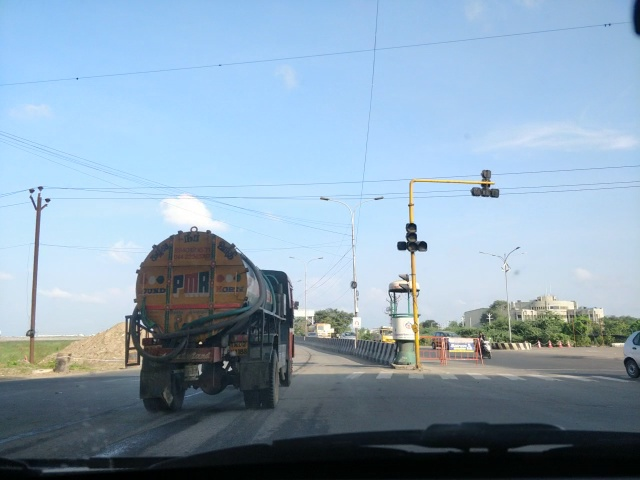car: (624, 328, 639, 381)
poles: (388, 275, 422, 365)
truck: (115, 224, 302, 413)
